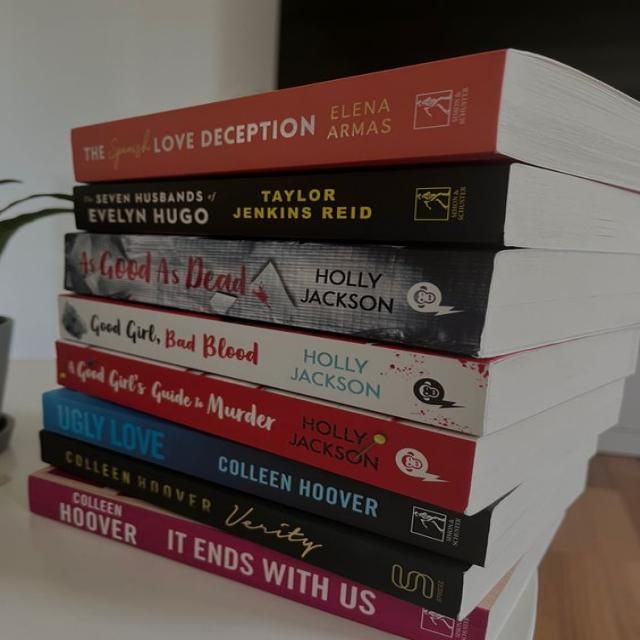book: (40, 431, 465, 619), (43, 394, 492, 568), (27, 476, 491, 640), (57, 343, 475, 515), (58, 296, 485, 436), (72, 50, 508, 182), (61, 234, 496, 352), (74, 166, 511, 244)
